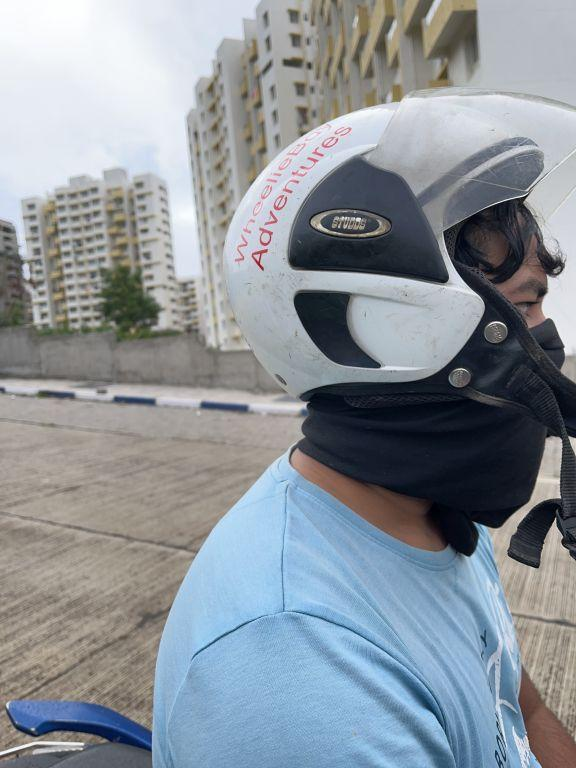helmet: (207, 79, 576, 511)
